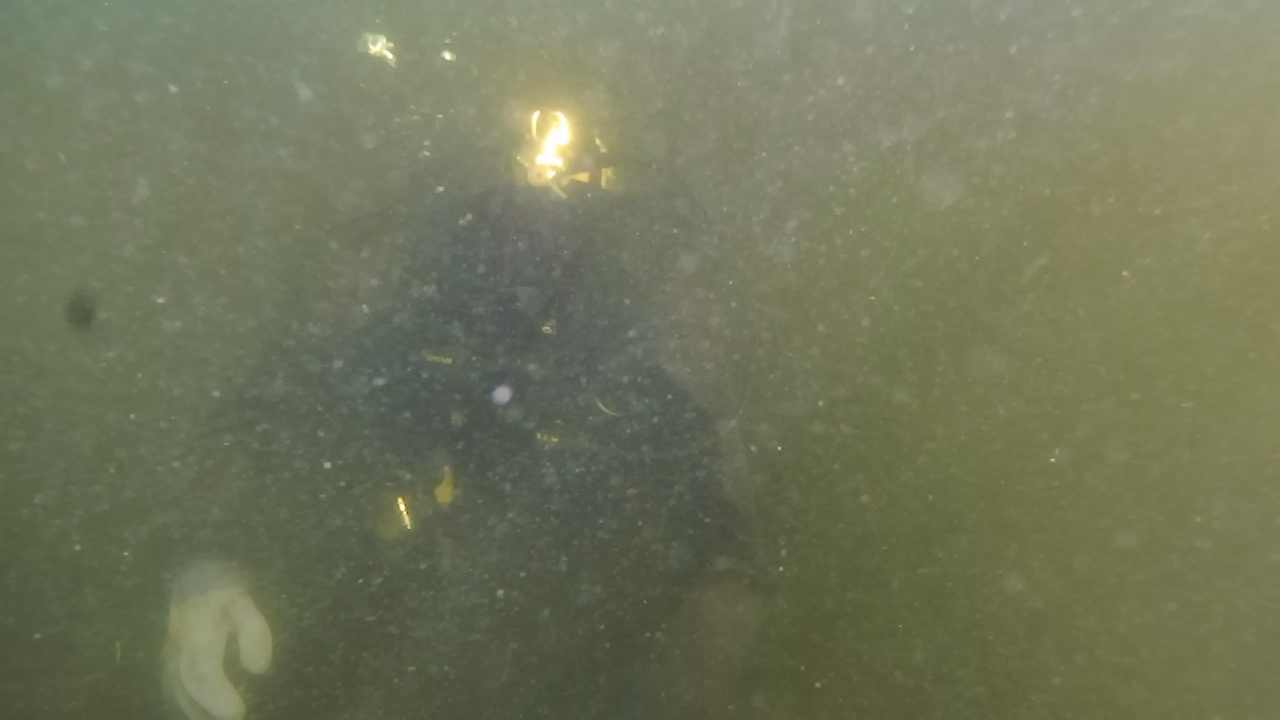Hand: (134, 560, 278, 712)
